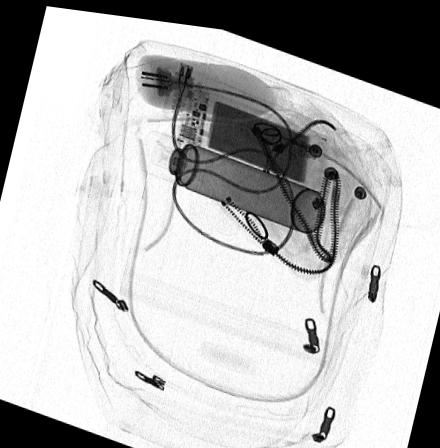Lighter: (242, 114, 318, 150)
Powerbank: (178, 75, 327, 181)
Sprayer: (137, 126, 325, 225)
